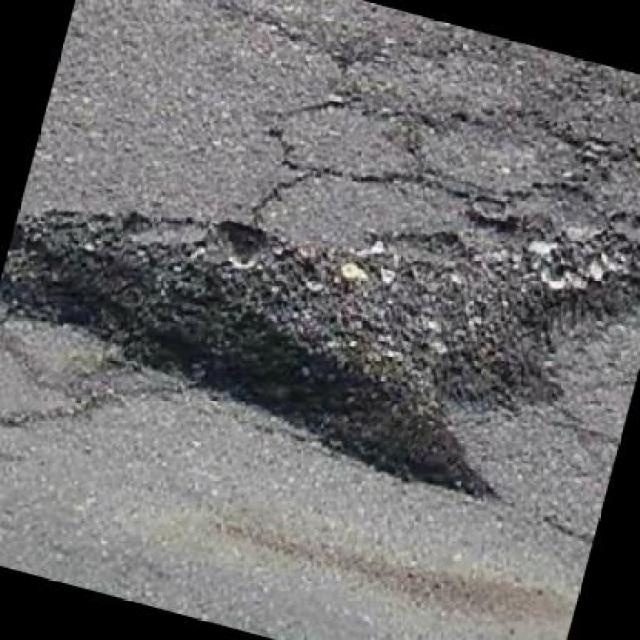pothole1: (0, 54, 638, 540)
